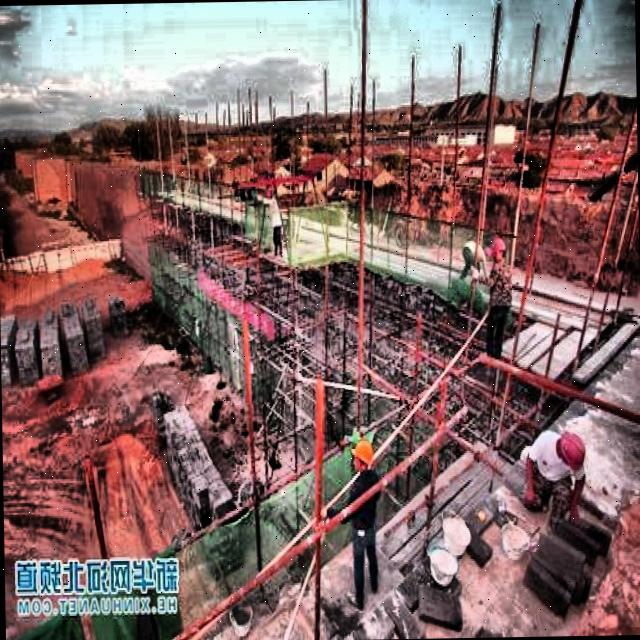helmet: (554, 429, 586, 474), (350, 437, 374, 476), (490, 232, 506, 267)
